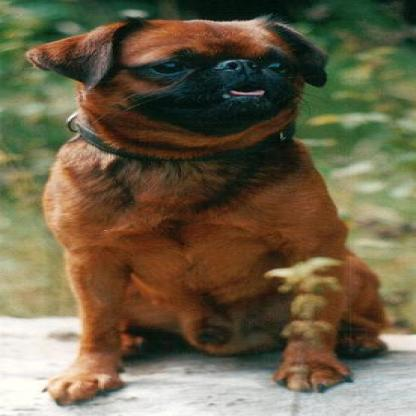Brabancon_griffon: (20, 15, 388, 408)
